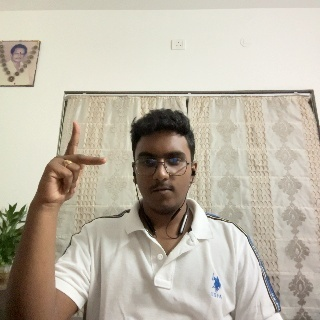Face: (129, 116, 191, 215)
Okay: (33, 120, 105, 220)
